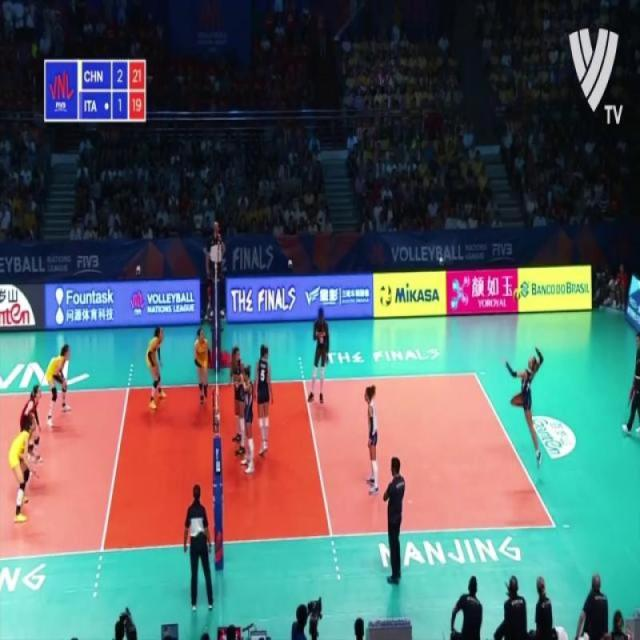volleyball: (378, 285, 394, 307), (512, 288, 522, 305)
